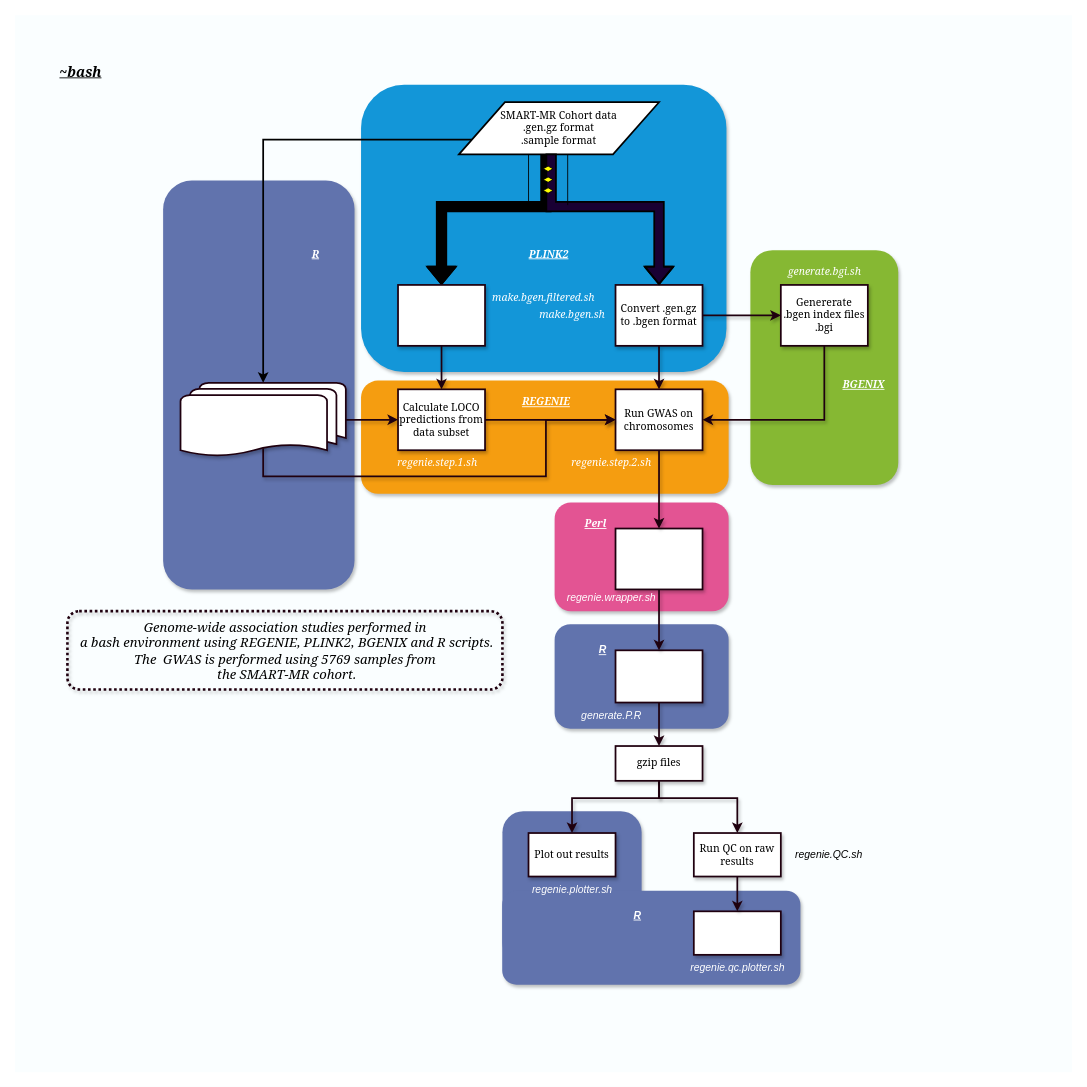
Image size: 1087x1087. Some labels were removed from this diagram. The centre of each missing label's shape, as x and y in pixels:
Calculate P-values from -LOG10P values: (659,677)
Convert .gen.gz to filtered .bgen format: (442,316)
phenotypes, covariates: (263,420)
Plot out QC'ed results: (737,934)
Wrap up individual chromosomes: (659,560)
